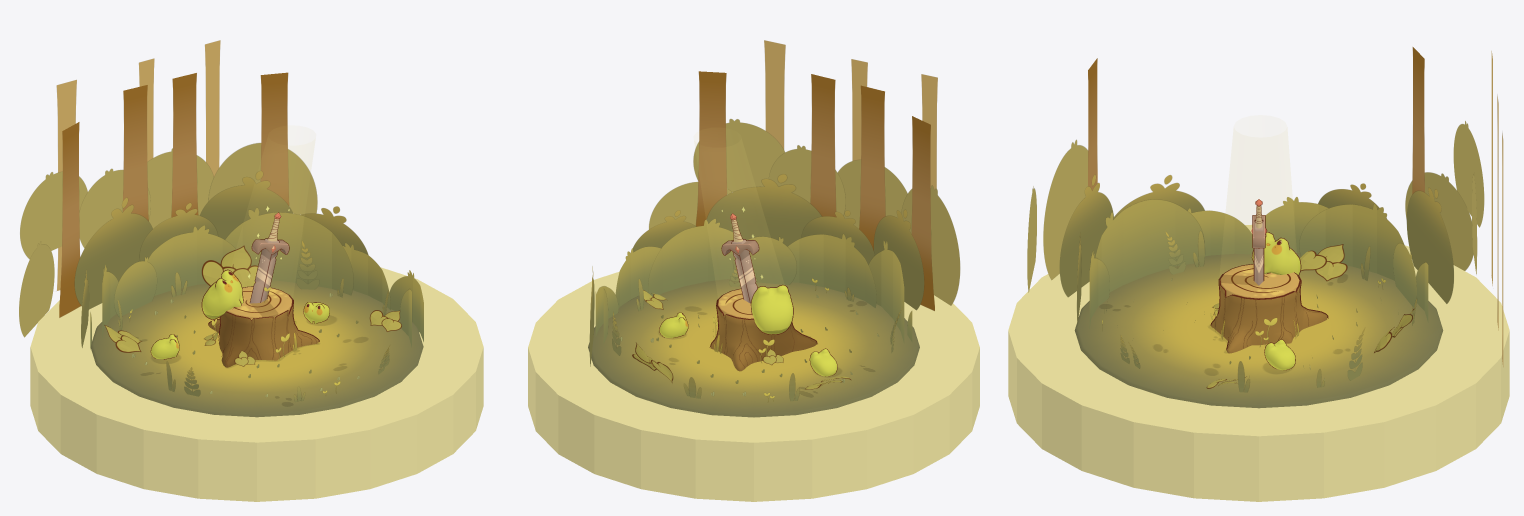
Rendered from magical_find.glb.
3 views of the same model, side by side, from view 1: azimuth 30°, elevation 25°; view 2: azimuth 150°, elevation 25°; view 3: azimuth 270°, elevation 25° (orthographic). The views are drawn at different scales.
Parts seen in each view (by area): view 1: Base, Background, Stump, Sword, Frog_1, Leaf_2.002, Leaft_3.001, Frog_2, Leaf_2.001; view 2: Base, Background, Stump, Frog_1, Sword, Frog_2, Frog_3; view 3: Base, Background, Stump, Frog_1, Leaf_2.001, Sword, Frog_3.
Boxes of the visible parts, x1=… form: Base: x1=30, y1=267, x2=483, y2=501; Background: x1=19, y1=40, x2=423, y2=349; Stump: x1=208, y1=286, x2=319, y2=367; Sword: x1=249, y1=212, x2=289, y2=303; Frog_1: x1=201, y1=269, x2=243, y2=319; Leaf_2.002: x1=201, y1=245, x2=257, y2=287; Leaft_3.001: x1=296, y1=240, x2=319, y2=289; Frog_2: x1=150, y1=334, x2=179, y2=359; Leaf_2.001: x1=104, y1=325, x2=141, y2=352; Base: x1=528, y1=271, x2=979, y2=501; Background: x1=589, y1=40, x2=960, y2=366; Stump: x1=709, y1=288, x2=817, y2=371; Frog_1: x1=750, y1=284, x2=793, y2=334; Sword: x1=721, y1=213, x2=759, y2=303; Frog_2: x1=809, y1=348, x2=837, y2=376; Frog_3: x1=659, y1=312, x2=688, y2=337; Base: x1=1008, y1=224, x2=1509, y2=501; Background: x1=1027, y1=47, x2=1503, y2=366; Stump: x1=1210, y1=264, x2=1328, y2=353; Frog_1: x1=1251, y1=232, x2=1301, y2=275; Leaf_2.001: x1=1300, y1=244, x2=1347, y2=281; Sword: x1=1251, y1=199, x2=1267, y2=285; Frog_3: x1=1264, y1=339, x2=1295, y2=370.
Bounding box in the file's own units: 13.6 × 9.57 × 13.6.
Materials: 7 (7 with a texture image).
